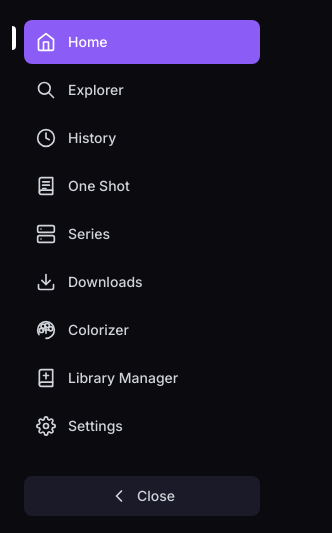
Test case: Sidebar › shows context menu on nav item right-click
This screenshot has width=332, height=533.
Right-click the button "Home".
right_click(142, 42)  # box [24,20,260,64]
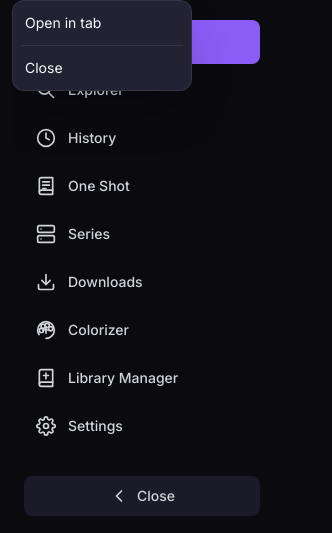
Expected: the text "Open in tab" is shown, [25,14,101,31]
